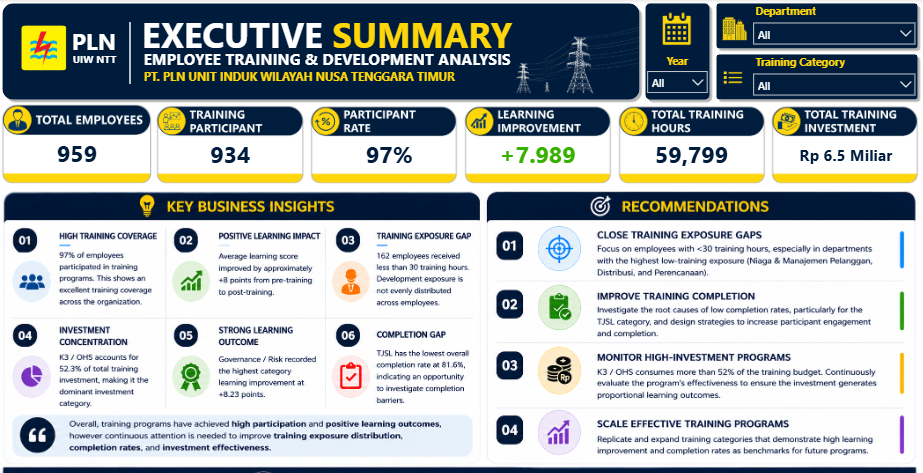

The dashboard page shown, as its layout file describes it:
{"tool":"powerbi","page":{"name":"Executive Summary","canvas":[1280,720],"ordinal":0},"visuals":[{"type":"shape","box":[1,0,889,144.5],"z":0,"group":"g6"},{"type":"group","id":"g1","title":"Group 1","box":[4,144.5,1269,110.1],"z":0,"group":"g2"},{"type":"image","box":[850.2,144.5,210.6,110.1],"z":0,"group":"g1"},{"type":"shape","box":[886.2,0,100.5,144.5],"z":1000,"group":"g6"},{"type":"image","box":[4,144.5,211,110.1],"z":1000,"group":"g1"},{"type":"cardVisual","title":"Total Employee","fields":{"Data":["FactTraining.Total Training Cost"]},"box":[1062.4,174.1,210.6,77.1],"z":1000,"group":"g2"},{"type":"shape","box":[177.4,32,11,85.3],"z":2000,"group":"g6"},{"type":"image","box":[214.3,144.5,212,110.1],"z":2000,"group":"g1"},{"type":"cardVisual","title":"Total Employee","fields":{"Data":["FactTraining.Training Participants"]},"box":[214.6,158.3,212,104.6],"z":2000,"group":"g2"},{"type":"textbox","box":[193.9,11.4,582.2,81.2],"z":3000,"group":"g6"},{"type":"textbox","box":[97.6,30.7,83.5,52.6],"z":3000,"group":"g4"},{"type":"image","box":[1060.8,144.5,212,110.1],"z":3000,"group":"g1"},{"type":"cardVisual","title":"Total Employee","fields":{"Data":["FactTraining.Learning Improvement Label"]},"box":[635.7,158.3,214.7,104.6],"z":3000,"group":"g2"},{"type":"textbox","box":[98.4,67.5,75.2,36.8],"z":4000,"group":"g4"},{"type":"textbox","box":[196.7,91.2,441.8,45.4],"z":4000,"group":"g6"},{"type":"image","box":[426.3,144.5,212,110.1],"z":4000,"group":"g1"},{"type":"cardVisual","title":"Total Employee","fields":{"Data":["FactTraining.Training Participation Rate"]},"box":[433.4,158.3,212,104.6],"z":4000,"group":"g2"},{"type":"group","id":"g2","title":"Group 2","box":[4,144.5,1269,118.4],"z":5000,"group":"g6"},{"type":"image","box":[638.2,144.5,212,110.1],"z":5000,"group":"g1"},{"type":"cardVisual","title":"Total Employee","fields":{"Data":["Sum(FactTraining.TrainingHours)"]},"box":[847.7,158.3,214.7,104.6],"z":5000,"group":"g2"},{"type":"image","box":[31.5,36.2,66.1,63.3],"z":6000,"group":"g6"},{"type":"cardVisual","title":"Total Employee","fields":{"Data":["CountNonNull(DimEmployee.EmployeeID)"]},"box":[4,170.7,210.6,77.1],"z":6000,"group":"g2"},{"type":"group","id":"g3","title":"Group 6","box":[984,0,289,144.5],"z":7000,"group":"g6"},{"type":"group","id":"g4","title":"Group 9","box":[97.6,30.7,84,74.3],"z":8000,"group":"g6"},{"type":"textbox","box":[196.7,63.7,542.3,45.4],"z":9000,"group":"g6"},{"type":"image","box":[712.8,5.5,170.7,154.2],"z":10000,"group":"g6"},{"type":"image","box":[891.8,8.3,86.7,64.7],"z":11000,"group":"g6"},{"type":"slicer","title":"Year","fields":{"Values":["DimDate.Year"]},"box":[884.9,74.3,97.7,81.2],"z":12000,"group":"g6"},{"type":"group","id":"g5","title":"Group 7","box":[984,0,289,74.3],"z":13000,"group":"g3"},{"type":"image","box":[4,262.9,1264.9,456.9],"z":13000,"group":"g6"},{"type":"group","id":"g6","title":"Group 3","box":[1,0,1272,719.8],"z":13001},{"type":"group","id":"g7","title":"Group 7","box":[984,69.9,289,74.6],"z":14000,"group":"g3"},{"type":"image","box":[985.4,17.2,58.6,48.6],"z":15000,"group":"g3"},{"type":"group","id":"g8","title":"Group 4","box":[984,0,289,74.3],"z":16000,"group":"g10"},{"type":"group","id":"g9","title":"Group 4","box":[984,69.9,289,74.3],"z":16000,"group":"g11"},{"type":"image","box":[994.9,81,36.4,53.9],"z":17000,"group":"g3"},{"type":"shape","box":[984,0,289,74.3],"z":19000,"group":"g8"},{"type":"shape","box":[984,69.9,289,74.3],"z":19000,"group":"g9"},{"type":"group","id":"g10","title":"Group 8","box":[984,0,289,74.3],"z":19001,"group":"g5"},{"type":"group","id":"g11","title":"Group 8","box":[984,69.9,289,74.3],"z":19001,"group":"g7"},{"type":"slicer","fields":{"Values":["DimEmployee.Department"]},"box":[1031.4,5.2,238,58],"z":20000,"group":"g8"},{"type":"slicer","fields":{"Values":["DimTraining.TrainingCategory"]},"box":[1031.4,75.1,238,58],"z":20000,"group":"g9"}]}

Visuals, with their boxes on the page's 1280x720 design canvas (x1, y1, x2, y2). These are canvas units, not pixel positions in the 923x473 screenshot, which may show the page scaled, cropped or inside an application window:
shape: [x1=1, y1=0, x2=890, y2=144]
"Group 1" group: [x1=4, y1=144, x2=1273, y2=255]
image: [x1=850, y1=144, x2=1061, y2=255]
shape: [x1=886, y1=0, x2=987, y2=144]
image: [x1=4, y1=144, x2=215, y2=255]
"Total Employee" cardVisual: [x1=1062, y1=174, x2=1273, y2=251]
shape: [x1=177, y1=32, x2=188, y2=117]
image: [x1=214, y1=144, x2=426, y2=255]
"Total Employee" cardVisual: [x1=215, y1=158, x2=427, y2=263]
textbox: [x1=194, y1=11, x2=776, y2=93]
textbox: [x1=98, y1=31, x2=181, y2=83]
image: [x1=1061, y1=144, x2=1273, y2=255]
"Total Employee" cardVisual: [x1=636, y1=158, x2=850, y2=263]
textbox: [x1=98, y1=68, x2=174, y2=104]
textbox: [x1=197, y1=91, x2=638, y2=137]
image: [x1=426, y1=144, x2=638, y2=255]
"Total Employee" cardVisual: [x1=433, y1=158, x2=645, y2=263]
"Group 2" group: [x1=4, y1=144, x2=1273, y2=263]
image: [x1=638, y1=144, x2=850, y2=255]
"Total Employee" cardVisual: [x1=848, y1=158, x2=1062, y2=263]
image: [x1=32, y1=36, x2=98, y2=100]
"Total Employee" cardVisual: [x1=4, y1=171, x2=215, y2=248]
"Group 6" group: [x1=984, y1=0, x2=1273, y2=144]
"Group 9" group: [x1=98, y1=31, x2=182, y2=105]
textbox: [x1=197, y1=64, x2=739, y2=109]
image: [x1=713, y1=6, x2=884, y2=160]
image: [x1=892, y1=8, x2=978, y2=73]
"Year" slicer: [x1=885, y1=74, x2=983, y2=156]
"Group 7" group: [x1=984, y1=0, x2=1273, y2=74]
image: [x1=4, y1=263, x2=1269, y2=720]
"Group 3" group: [x1=1, y1=0, x2=1273, y2=720]
"Group 7" group: [x1=984, y1=70, x2=1273, y2=144]
image: [x1=985, y1=17, x2=1044, y2=66]
"Group 4" group: [x1=984, y1=0, x2=1273, y2=74]
"Group 4" group: [x1=984, y1=70, x2=1273, y2=144]
image: [x1=995, y1=81, x2=1031, y2=135]
shape: [x1=984, y1=0, x2=1273, y2=74]
shape: [x1=984, y1=70, x2=1273, y2=144]
"Group 8" group: [x1=984, y1=0, x2=1273, y2=74]
"Group 8" group: [x1=984, y1=70, x2=1273, y2=144]
slicer - DimEmployee.Department: [x1=1031, y1=5, x2=1269, y2=63]
slicer - DimTraining.TrainingCategory: [x1=1031, y1=75, x2=1269, y2=133]
